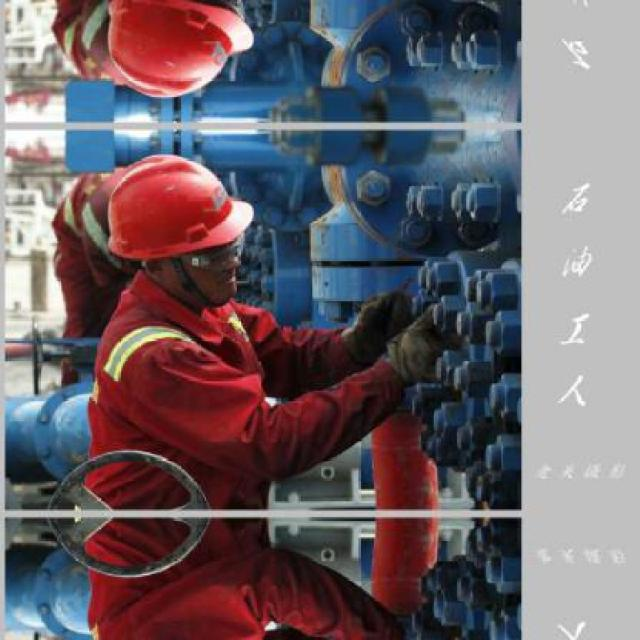helmet: (84, 142, 258, 308), (83, 0, 259, 109)
